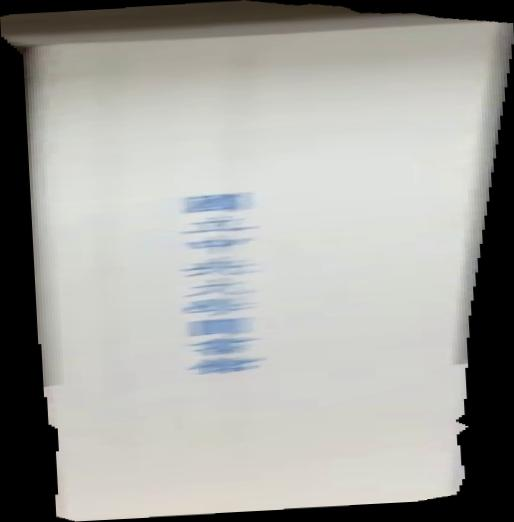backward: (1, 1, 514, 522)
